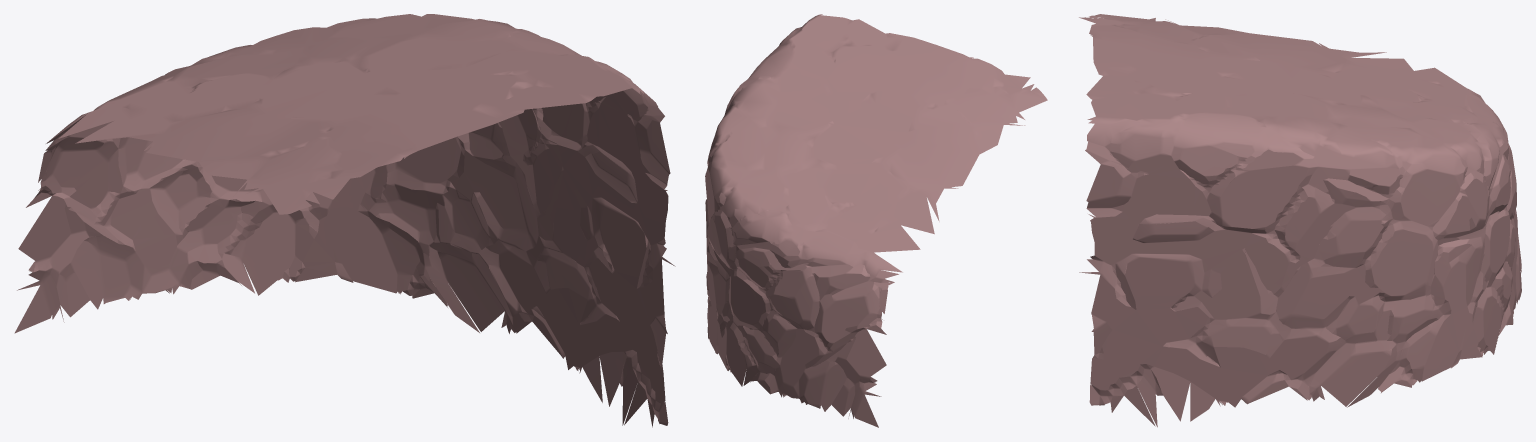
Rendered from mini_canyon.fbx_Cube__12__011LODs.fbx.
3 views of the same model, side by side, from view 1: azimuth 30°, elevation 25°; view 2: azimuth 150°, elevation 25°; view 3: azimuth 270°, elevation 25° (orthographic). The views are drawn at different scales.
Visible parts, largest first — view 1: Cube (12).011_LOD0; view 2: Cube (12).011_LOD0; view 3: Cube (12).011_LOD0.
Part boxes in pixels (x1,y1,x2,y2): Cube (12).011_LOD0: (14,14,675,427); Cube (12).011_LOD0: (705,14,1047,427); Cube (12).011_LOD0: (1079,14,1521,427).
Size of what is drawn, in the model's own units: 5266 by 4736 by 6338.
